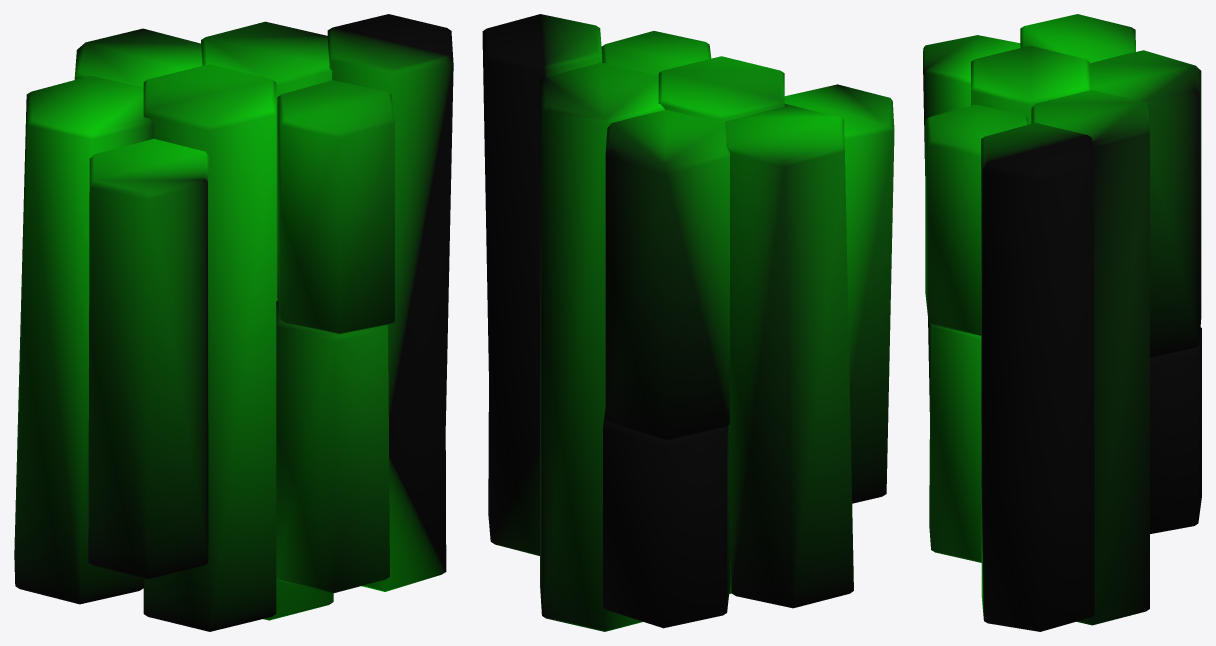
Rendered from SM_RockHexic_Rocks05.fbx.
3 views of the same model, side by side, from view 1: azimuth 30°, elevation 25°; view 2: azimuth 150°, elevation 25°; view 3: azimuth 270°, elevation 25° (orthographic). The views are drawn at different scales.
Visible parts, largest first — view 1: SM_RockHexic_Rocks05; view 2: SM_RockHexic_Rocks05; view 3: SM_RockHexic_Rocks05.
Boxes of the visible parts, x1=… form: SM_RockHexic_Rocks05: x1=14, y1=14, x2=453, y2=631; SM_RockHexic_Rocks05: x1=482, y1=14, x2=894, y2=631; SM_RockHexic_Rocks05: x1=923, y1=14, x2=1201, y2=631.
Bounding box in the file's own units: 1299 × 847 × 1649.
